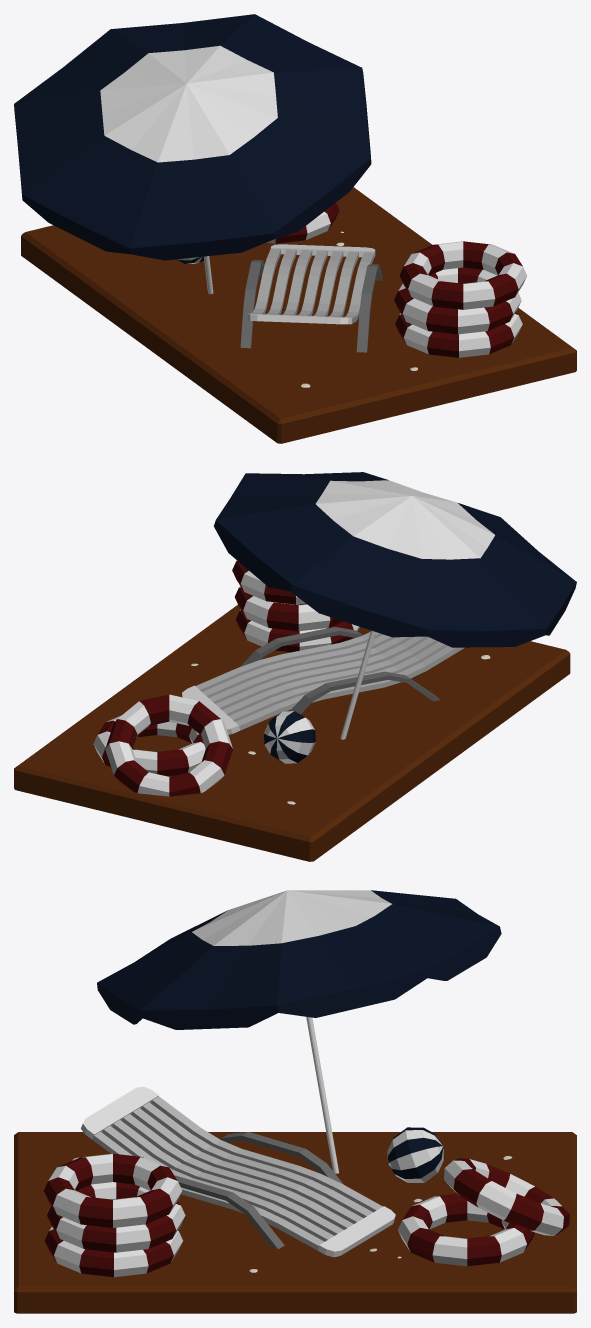
The model's file is W_O_Playground_BeachSymbolic_002_L0.fbx.
3 renders of one model, top to bottom at view 1: azimuth 30°, elevation 25°; view 2: azimuth 150°, elevation 25°; view 3: azimuth 270°, elevation 25°, orthographic. The views are drawn at different scales.
Parts seen in each view (by area): view 1: W_O_Playground_BeachSymbolic_002_L0; view 2: W_O_Playground_BeachSymbolic_002_L0; view 3: W_O_Playground_BeachSymbolic_002_L0.
Part boxes in pixels (<box>): W_O_Playground_BeachSymbolic_002_L0: <box>14,14,576,443</box>; W_O_Playground_BeachSymbolic_002_L0: <box>14,472,576,861</box>; W_O_Playground_BeachSymbolic_002_L0: <box>14,890,576,1313</box>.
Bounding box in the file's own units: 2.77 × 1.66 × 3.
